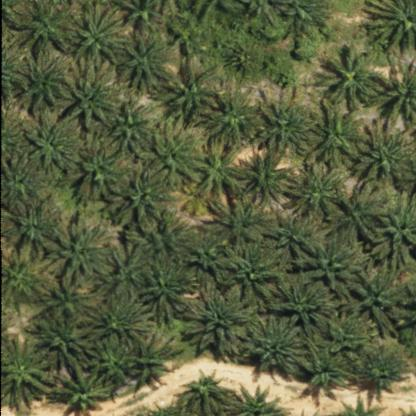Palm Oil: (184, 282, 260, 362), (46, 214, 118, 286), (61, 56, 123, 134), (241, 313, 311, 381), (29, 309, 95, 379), (142, 116, 207, 187), (206, 191, 278, 255), (352, 266, 414, 340), (318, 44, 384, 112), (353, 116, 416, 186), (283, 160, 353, 223), (307, 97, 369, 167), (300, 238, 372, 298), (87, 290, 159, 350), (191, 135, 250, 206), (226, 238, 284, 308), (138, 262, 199, 328), (336, 177, 395, 245), (206, 76, 260, 150), (3, 194, 65, 258), (126, 208, 200, 261), (237, 144, 296, 210), (23, 112, 82, 178), (124, 326, 185, 389), (255, 94, 314, 159), (270, 281, 339, 336), (166, 57, 221, 123), (112, 168, 172, 228), (270, 205, 332, 263), (118, 29, 173, 94), (48, 358, 109, 416), (72, 3, 129, 65), (16, 52, 70, 116), (20, 0, 76, 61), (74, 140, 123, 207), (102, 239, 153, 302), (40, 271, 99, 325), (108, 94, 156, 160), (324, 312, 382, 364), (296, 338, 350, 391), (90, 337, 141, 390), (182, 239, 236, 284), (356, 350, 408, 396), (181, 371, 232, 416), (226, 38, 263, 74)
